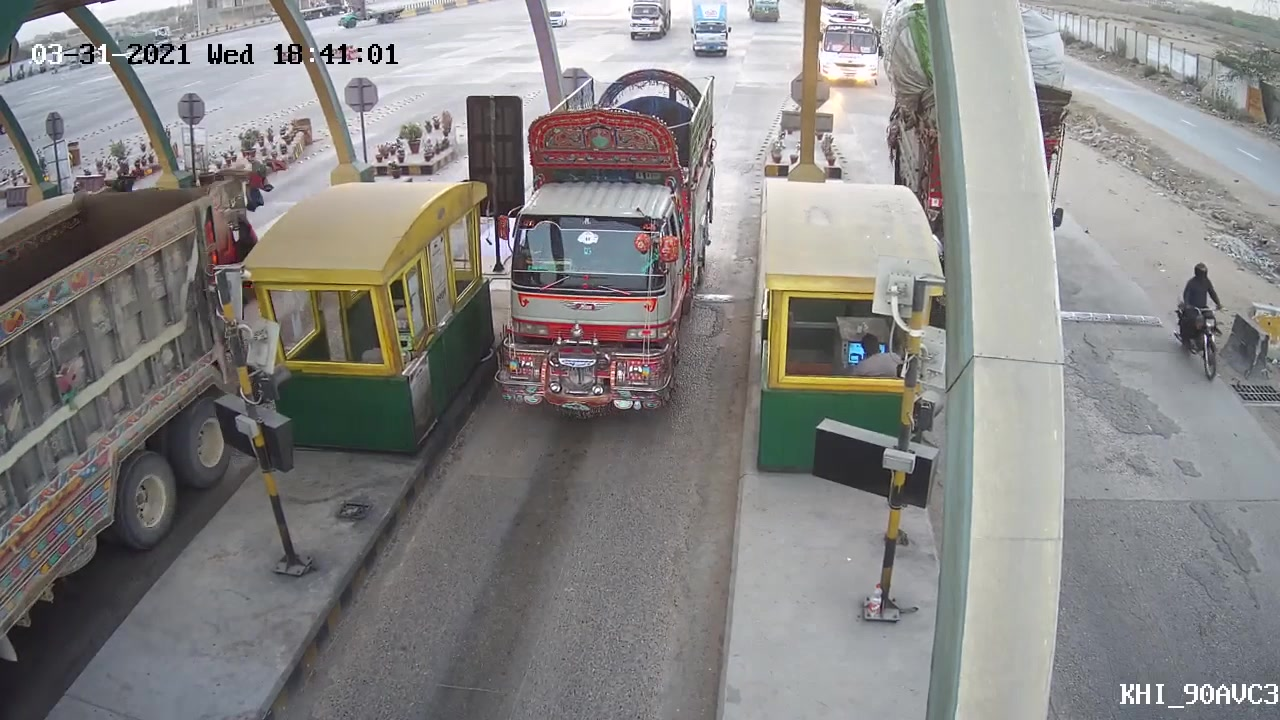F5: (475, 66, 732, 424)
